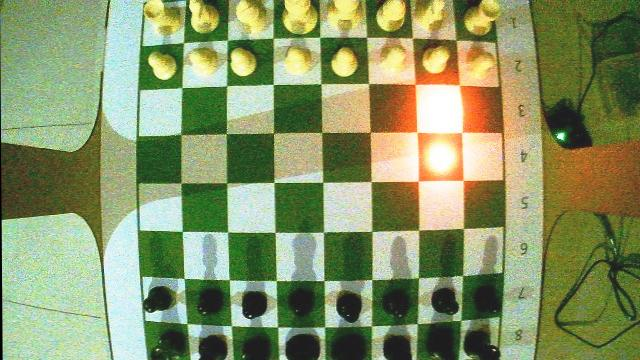piece: (281, 0, 320, 33), (464, 0, 500, 35), (144, 0, 179, 34), (411, 0, 449, 31), (464, 327, 500, 359), (323, 0, 359, 30), (235, 0, 268, 32), (188, 0, 219, 33), (285, 332, 321, 359), (417, 43, 449, 73), (376, 0, 405, 32), (186, 47, 218, 75), (382, 289, 410, 319), (335, 290, 361, 322), (143, 287, 175, 313), (147, 51, 176, 79), (331, 46, 358, 76), (229, 47, 256, 76), (151, 333, 181, 359), (381, 44, 407, 72), (285, 45, 310, 74), (430, 287, 459, 312), (330, 337, 362, 359), (384, 333, 411, 359), (199, 334, 227, 359), (465, 45, 490, 73), (242, 291, 265, 319), (287, 287, 310, 314), (196, 289, 220, 314), (427, 338, 452, 359), (475, 293, 500, 313), (243, 338, 262, 359)
